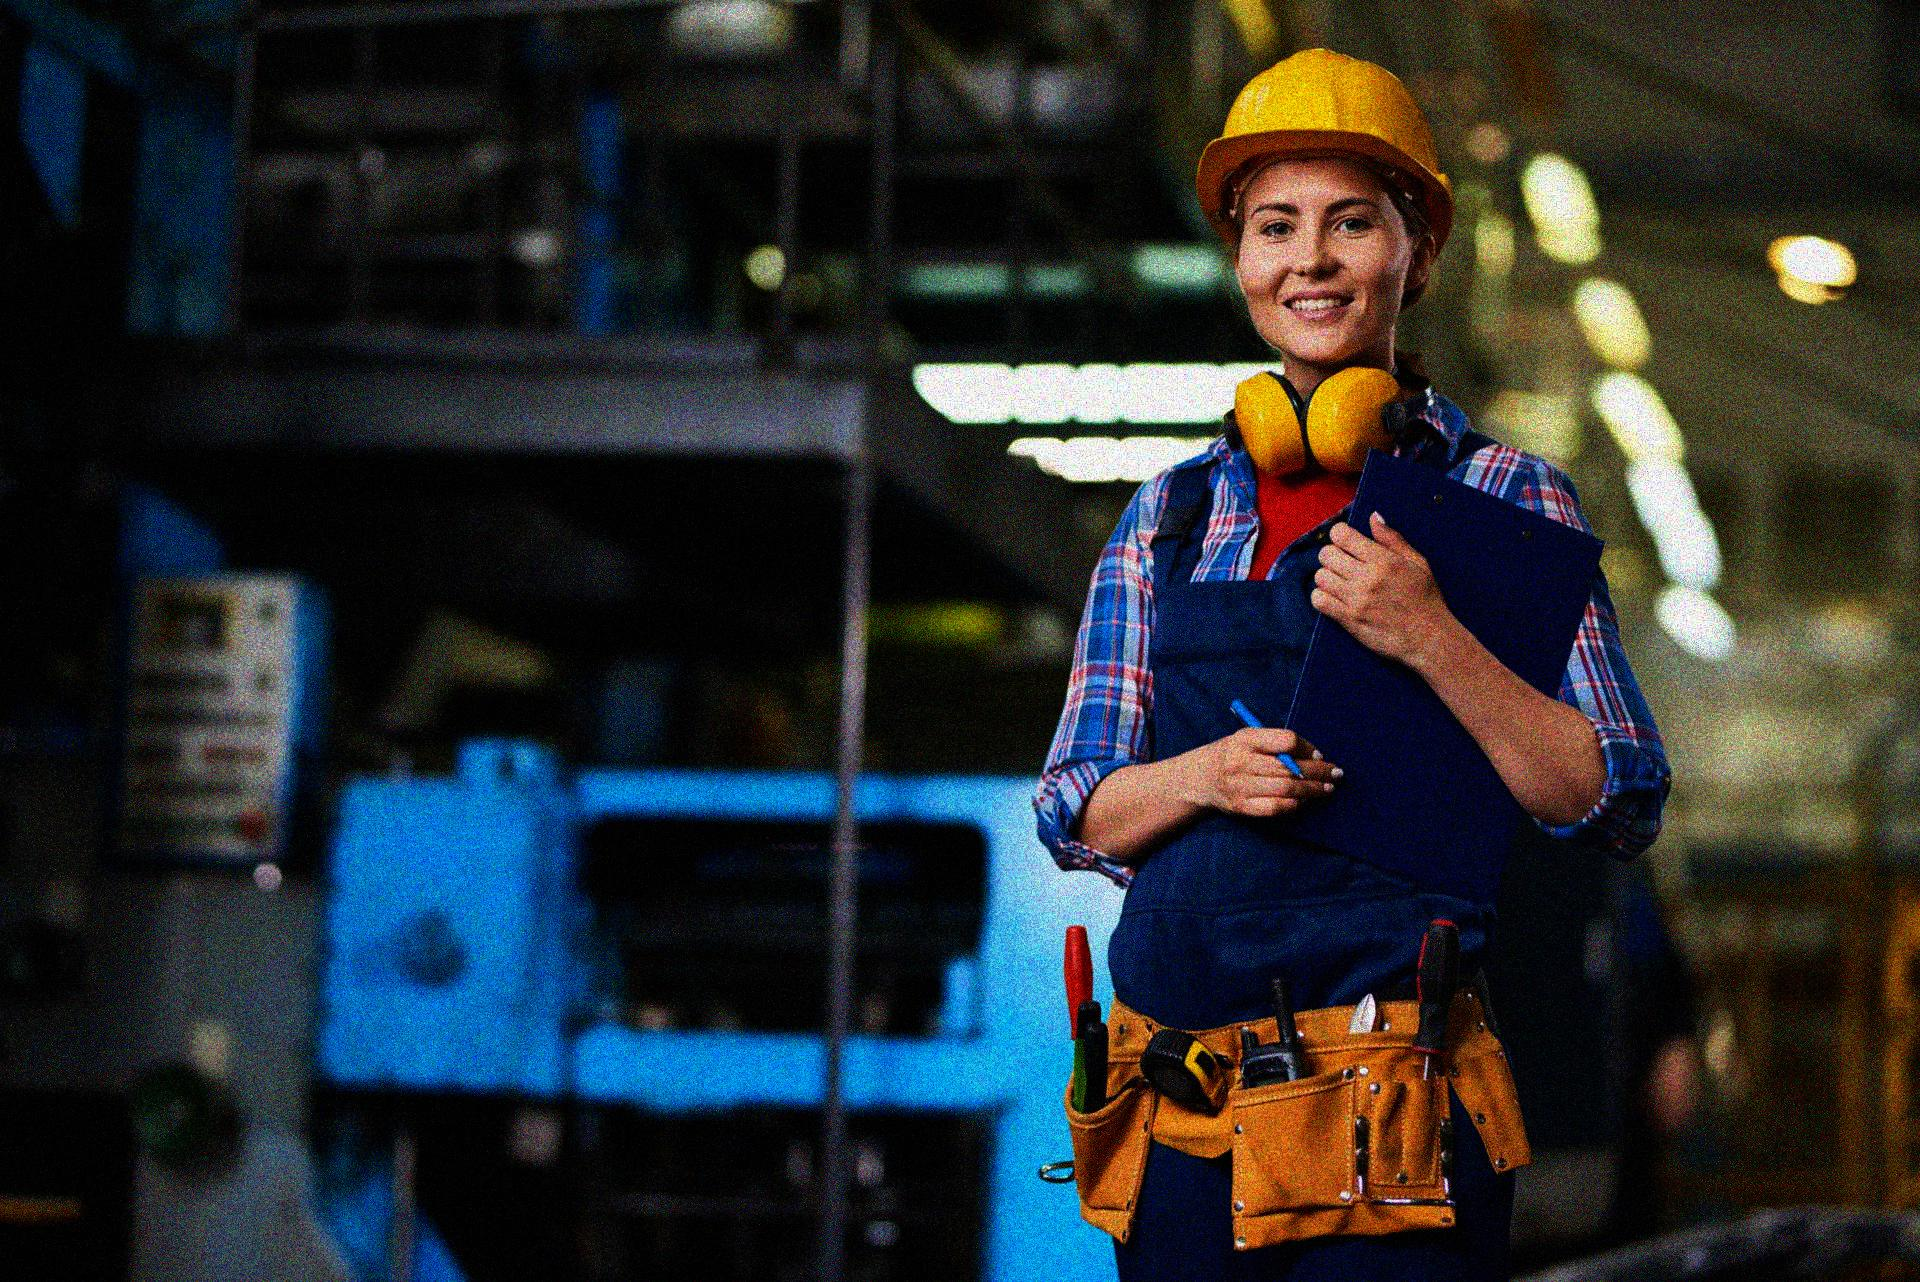helmet: (1195, 41, 1458, 376)
